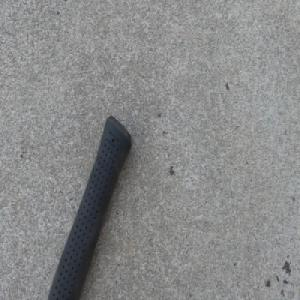Hammer: (43, 112, 133, 300)
